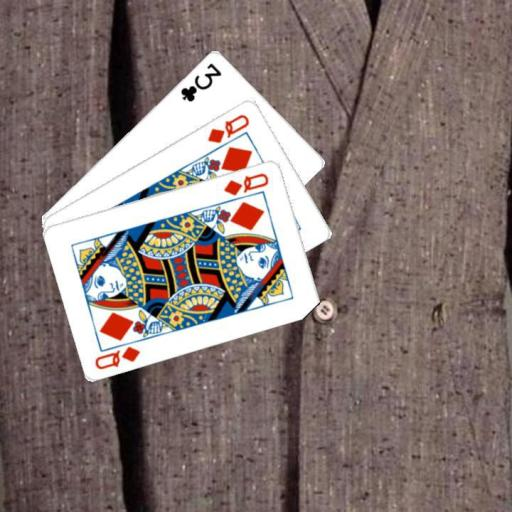3C: (177, 59, 223, 103)
QD: (204, 111, 251, 145), (221, 169, 271, 197), (92, 343, 142, 370)
